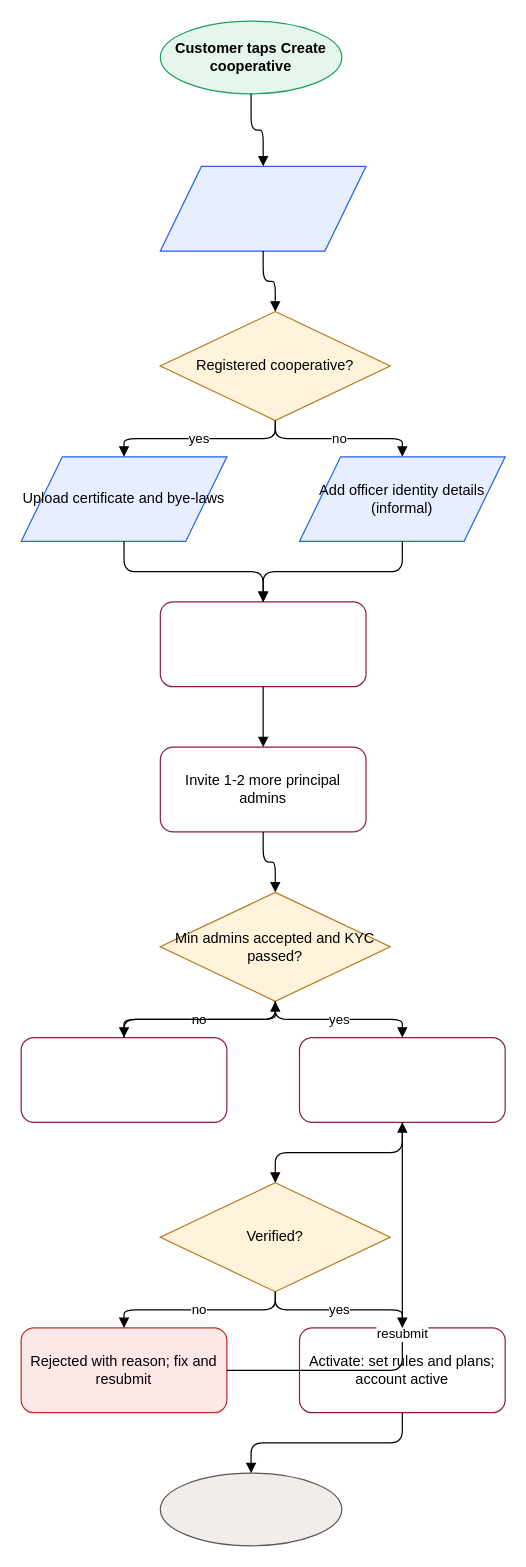
Image size: 526x1567. Some labels were removed from this diagram. The shapes that lost their labels are listed below. From the top down, each one's centre as x and y in pixels, then its label:
(x=262, y=208): Enter name, type, description, meeting schedule
(x=262, y=644): Create tenant; provision dedicated account (RESTRICTED)
(x=123, y=1079): Waiting: reminders to admins
(x=401, y=1079): Staff verification of documents / trust level set
(x=250, y=1509): Cooperative live; invite members
